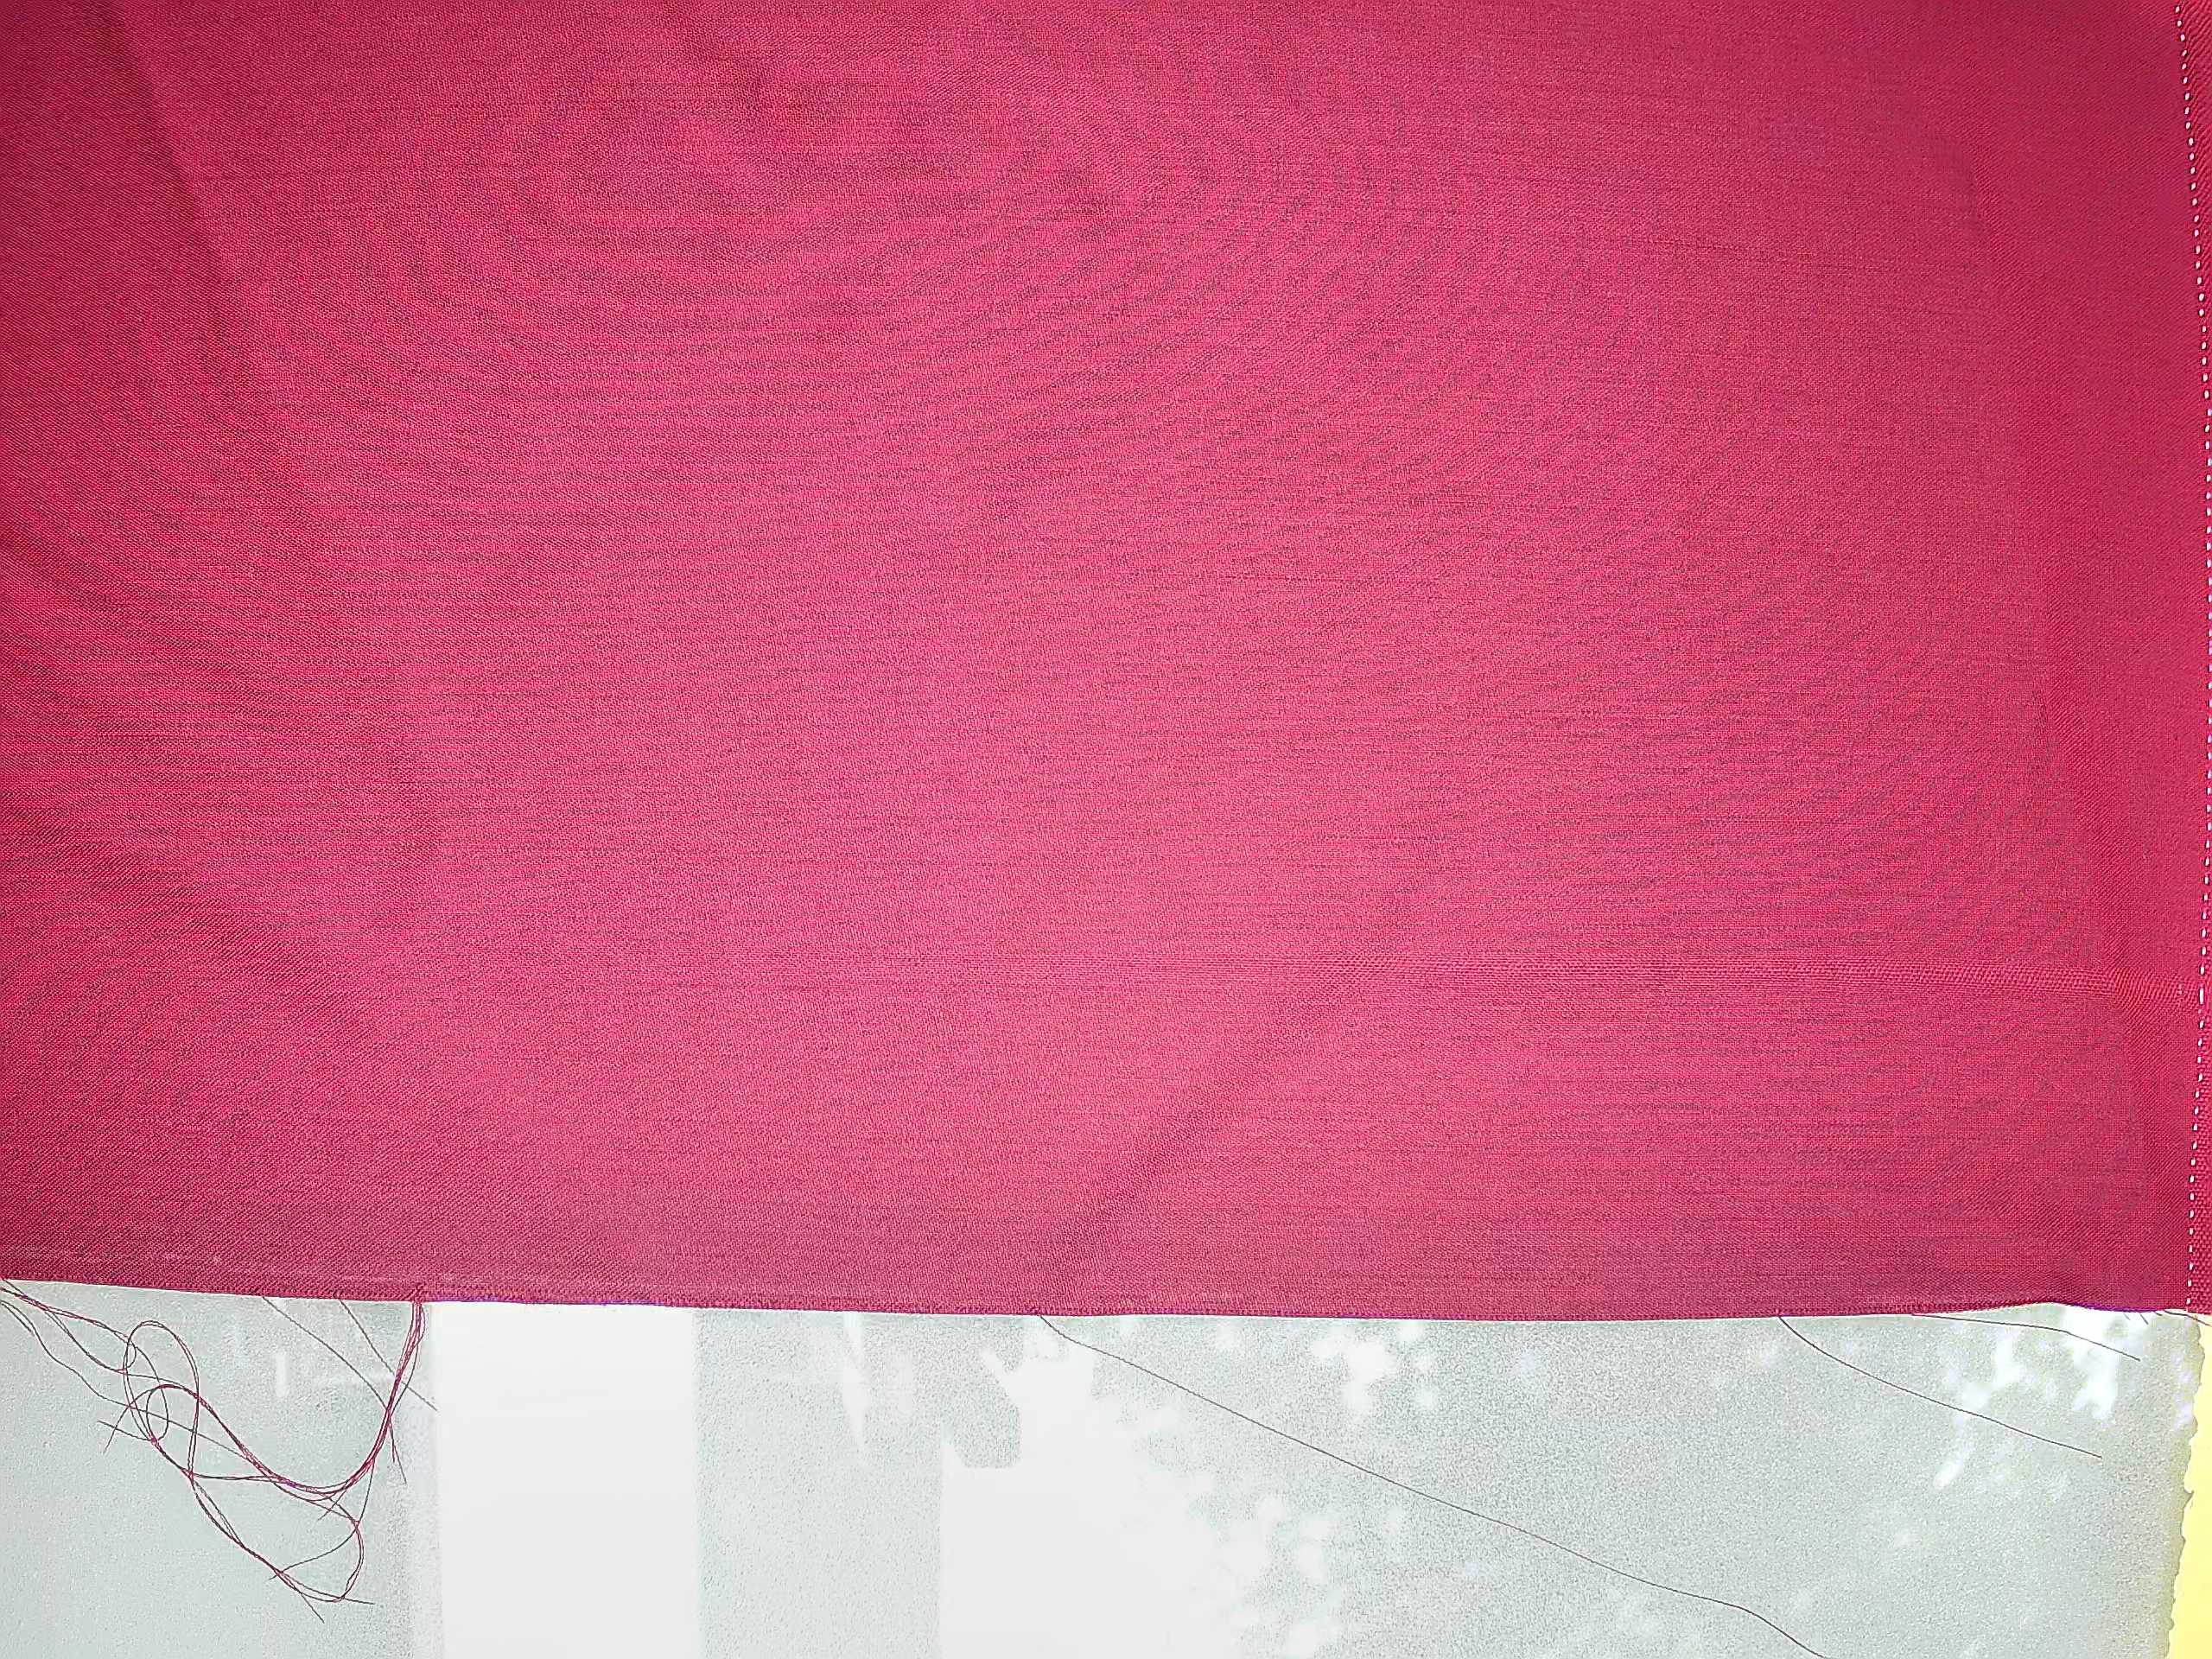thin-spinning: (1096, 932, 2195, 1016)
